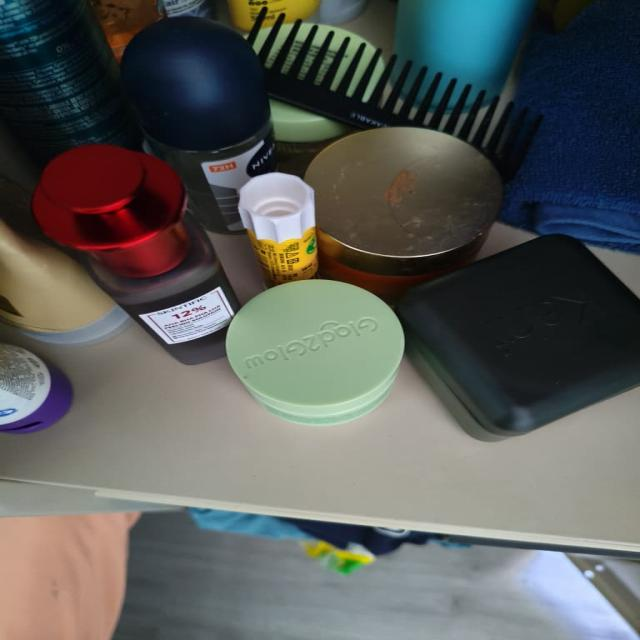glue: (240, 173, 318, 285)
